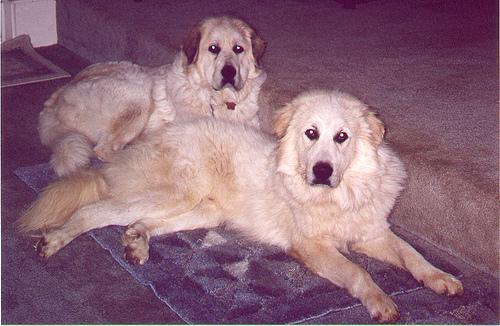Great_Pyrenees: (13, 90, 464, 324), (37, 15, 270, 177)
